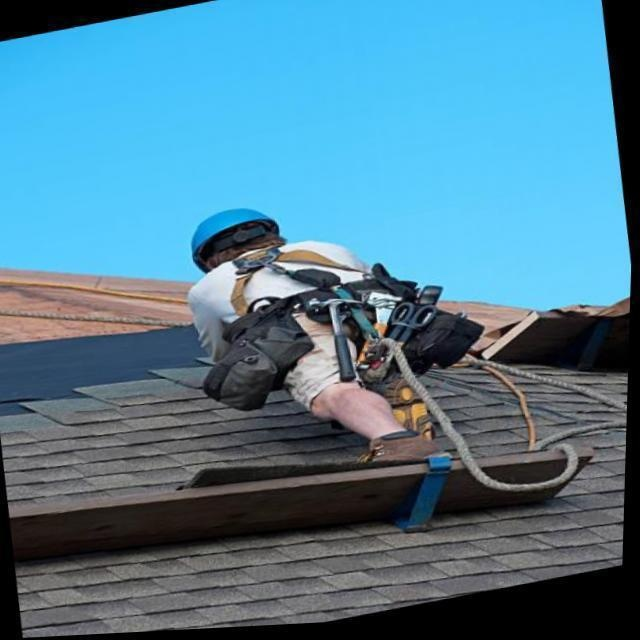Arnes_seguridad: (209, 237, 402, 392)
